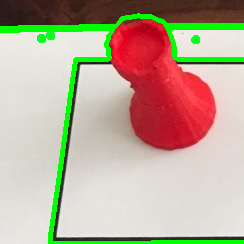Red Castle: (94, 17, 221, 153)
